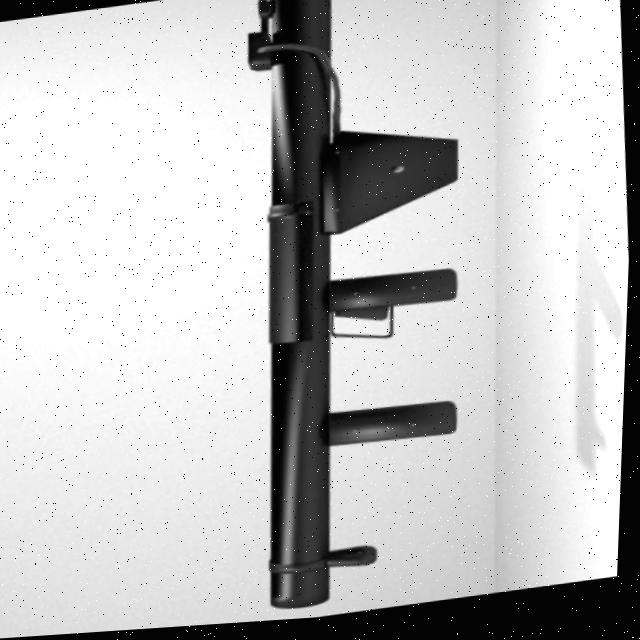rocket: (207, 0, 504, 628)
